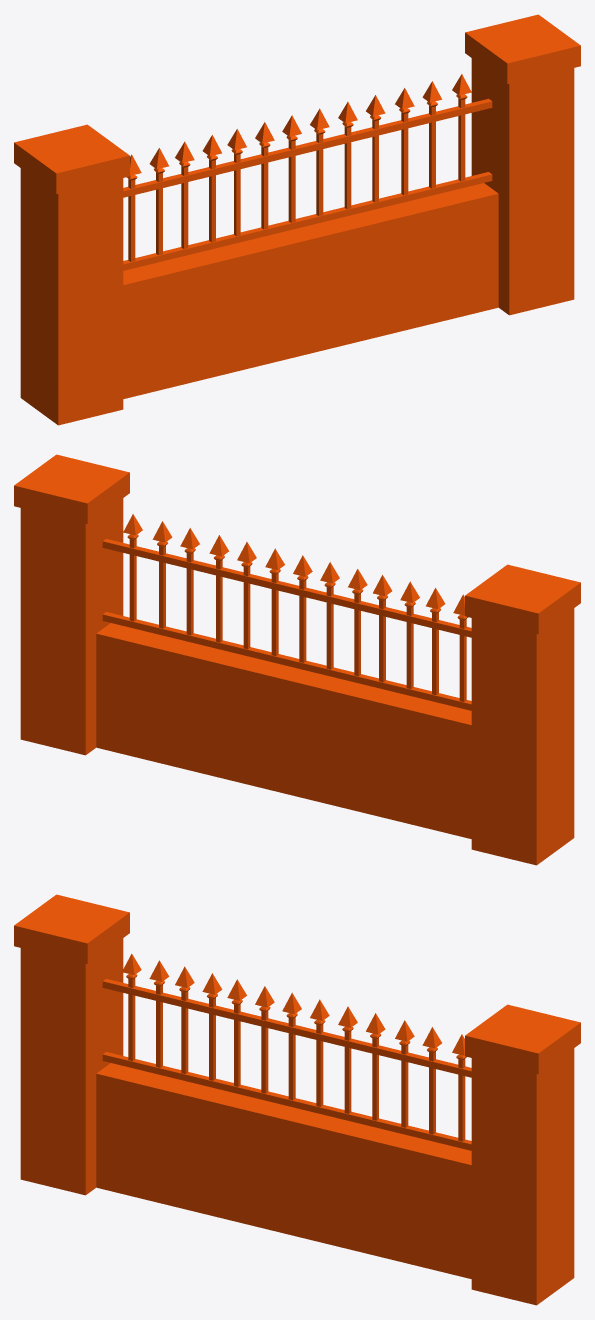
The model's file is wall.gltf.
The picture shows the model from 3 angles, top to bottom: view 1: azimuth 30°, elevation 25°; view 2: azimuth 150°, elevation 25°; view 3: azimuth 330°, elevation 25°; orthographic projection.
Bounding box in the file's own units: 11.63 × 5.4 × 1.63.
